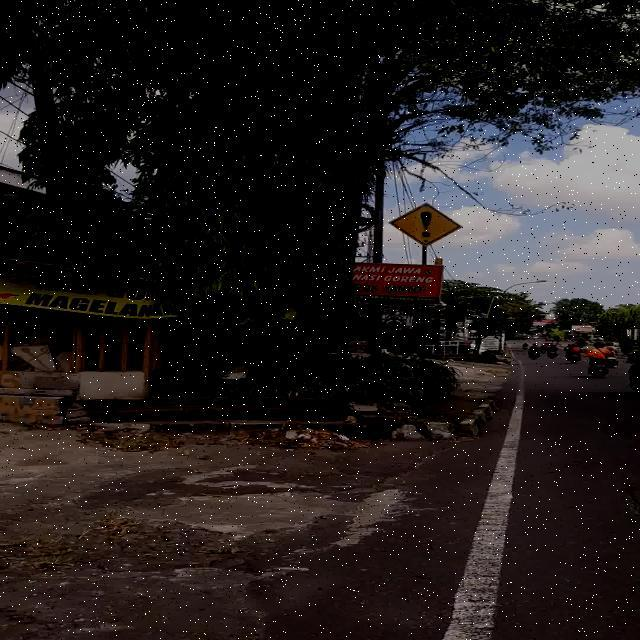Hati-Hati: (390, 202, 462, 246)
